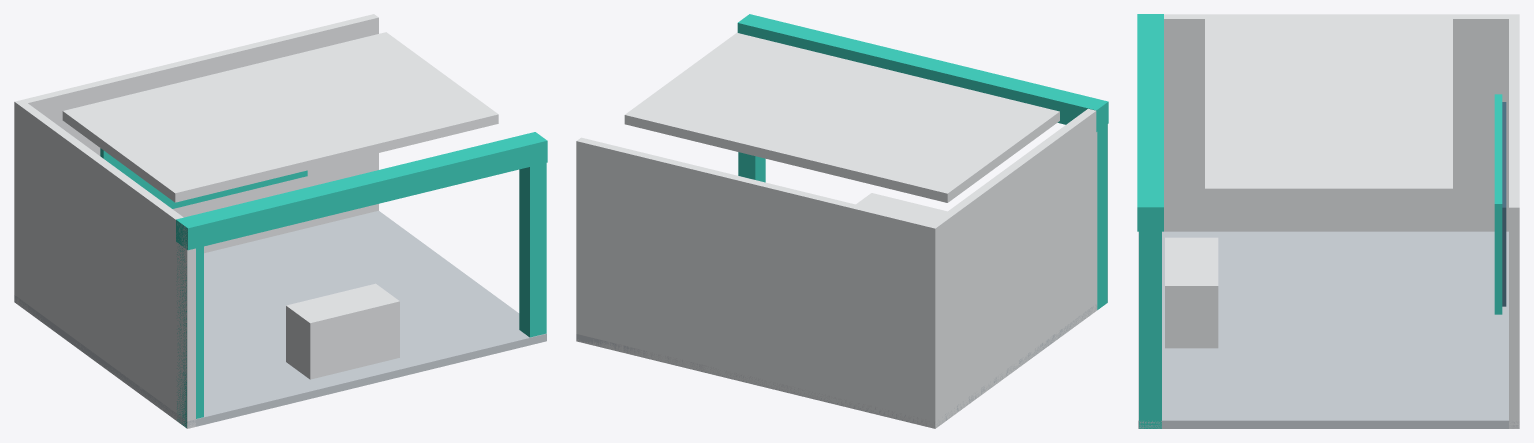
The picture shows the model from 3 angles, left to right: view 1: azimuth 30°, elevation 25°; view 2: azimuth 150°, elevation 25°; view 3: azimuth 270°, elevation 25°; orthographic projection. The views are drawn at different scales.
Parts seen in each view (by area): view 1: Exhibition Booth Concept; view 2: Exhibition Booth Concept; view 3: Exhibition Booth Concept.
Part boxes in pixels (<box>): Exhibition Booth Concept: <box>14,14,547,428</box>; Exhibition Booth Concept: <box>576,14,1108,428</box>; Exhibition Booth Concept: <box>1137,14,1519,428</box>.
Size of the model in its own units: 6 by 3.34 by 5.02.
